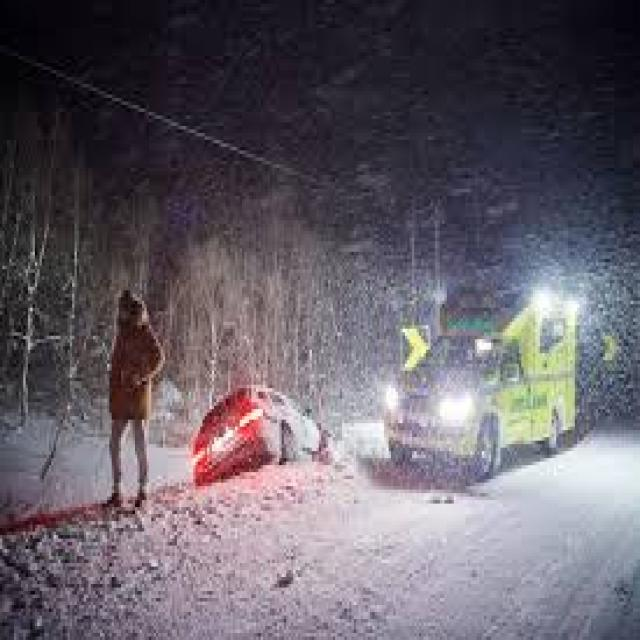Accident: (190, 381, 324, 493)
